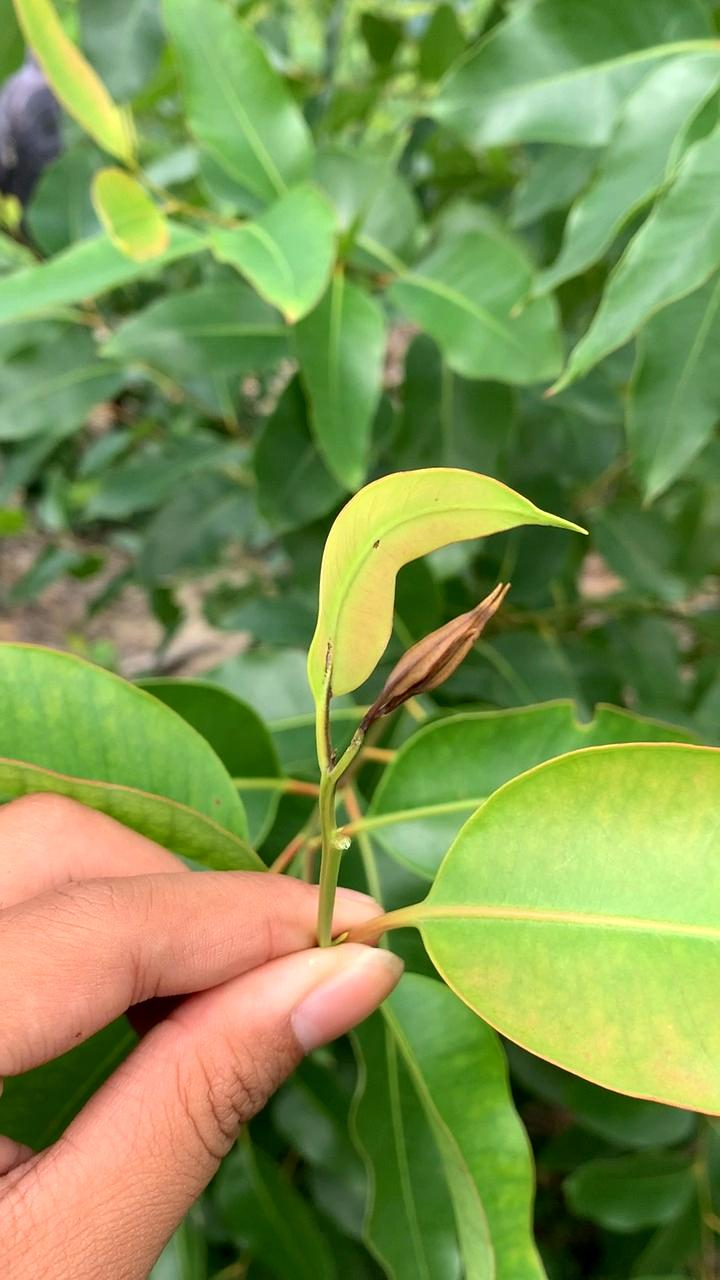Helopeltis-Withered Sprout: (356, 573, 519, 735)
